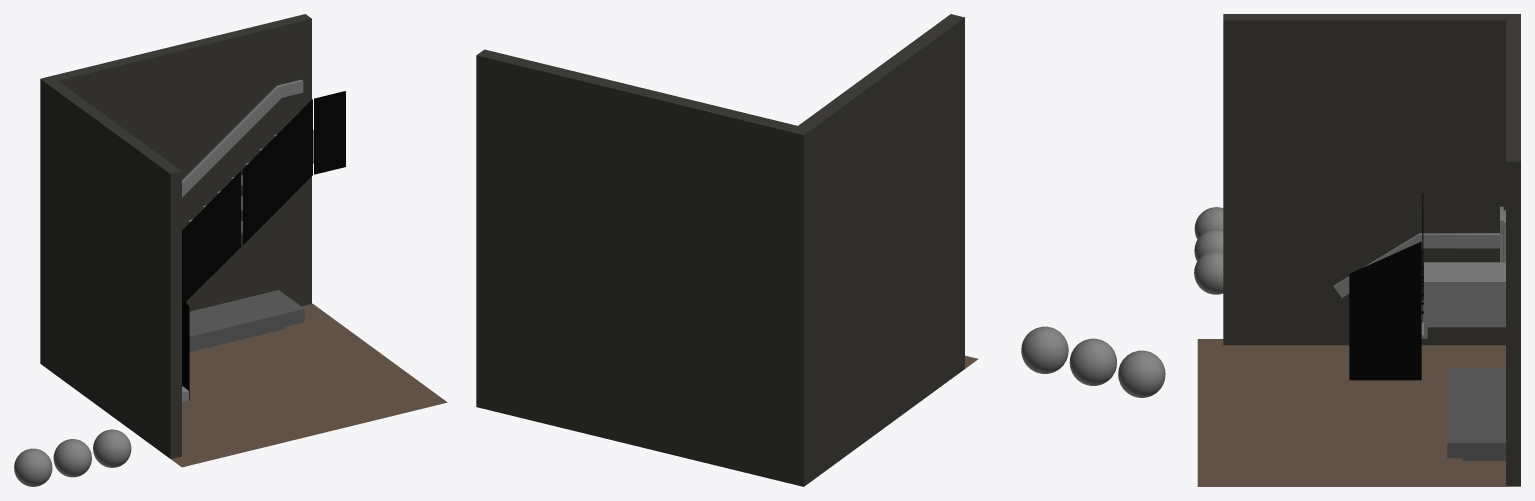
3 renders of one model, left to right at view 1: azimuth 30°, elevation 25°; view 2: azimuth 150°, elevation 25°; view 3: azimuth 270°, elevation 25°, orthographic. The views are drawn at different scales.
Parts seen in each view (by area): view 1: wall, floor, glass, tumba, fence, white, dark, mid; view 2: wall, dark, white, mid; view 3: wall, floor, glass, steps, tumba, fence, dark, mid, white.
Boxes of the visible parts, box(x1,y1,x2,y2) form: wall: box(40, 14, 311, 458); floor: box(171, 303, 447, 467); glass: box(182, 91, 345, 400); tumba: box(189, 290, 304, 351); fence: box(182, 79, 303, 197); white: box(14, 448, 52, 486); dark: box(93, 429, 131, 467); mid: box(53, 439, 91, 477); wall: box(476, 14, 964, 486); dark: box(1021, 326, 1068, 373); white: box(1118, 350, 1165, 397); mid: box(1069, 338, 1116, 385); wall: box(1223, 14, 1520, 486); floor: box(1197, 339, 1505, 486); glass: box(1349, 193, 1423, 380); steps: box(1421, 262, 1505, 338); tumba: box(1447, 368, 1505, 460); fence: box(1333, 206, 1505, 297); dark: box(1194, 251, 1223, 294); mid: box(1194, 229, 1223, 261); white: box(1194, 207, 1223, 239).
Bounding box in the file's own units: 746 × 480 × 438.
